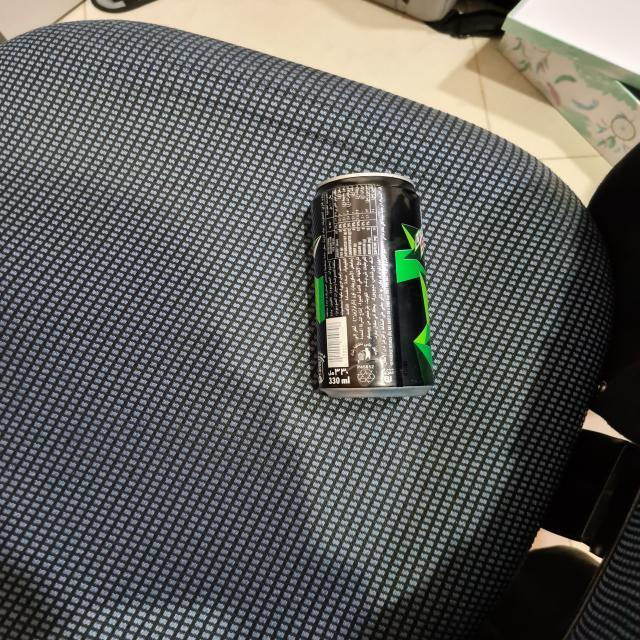trash: (302, 172, 438, 408)
